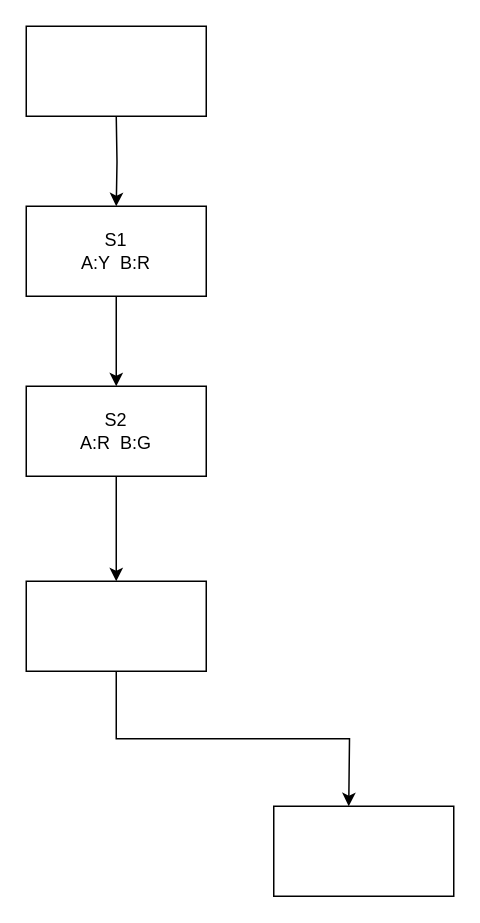
The diagram is 480 pixels wide and 923 high, and some of its shapes have lost their labels. The box of each missing label's shape, as (x1, y1, x2, y2) in pixels:
S0 A:G B:R: (25, 25, 206, 116)
S3 A:R B:Y: (25, 580, 206, 671)
